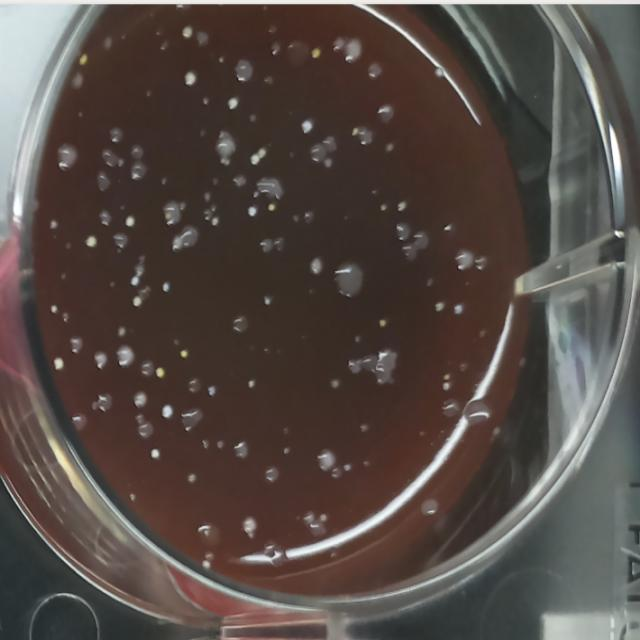Bacillus: (54, 141, 82, 174)
Pseudoalteromonas: (187, 377, 203, 396), (273, 235, 288, 255), (331, 465, 343, 480)
Staphylococcus: (182, 69, 199, 89), (180, 23, 195, 41), (84, 233, 99, 251), (160, 403, 175, 421), (299, 118, 313, 137), (226, 94, 240, 112), (261, 292, 274, 311), (432, 298, 447, 314), (76, 51, 90, 67), (52, 356, 66, 372), (149, 446, 162, 462), (452, 302, 465, 318), (310, 44, 322, 61), (205, 384, 218, 398), (256, 145, 268, 160), (246, 203, 258, 218), (124, 214, 136, 229), (178, 346, 190, 361), (434, 65, 446, 80), (131, 294, 143, 308), (154, 366, 166, 380), (376, 316, 388, 330), (249, 152, 260, 167), (210, 214, 221, 229), (48, 302, 59, 316), (160, 280, 171, 293), (246, 377, 256, 391), (265, 201, 276, 213), (129, 275, 139, 287)
